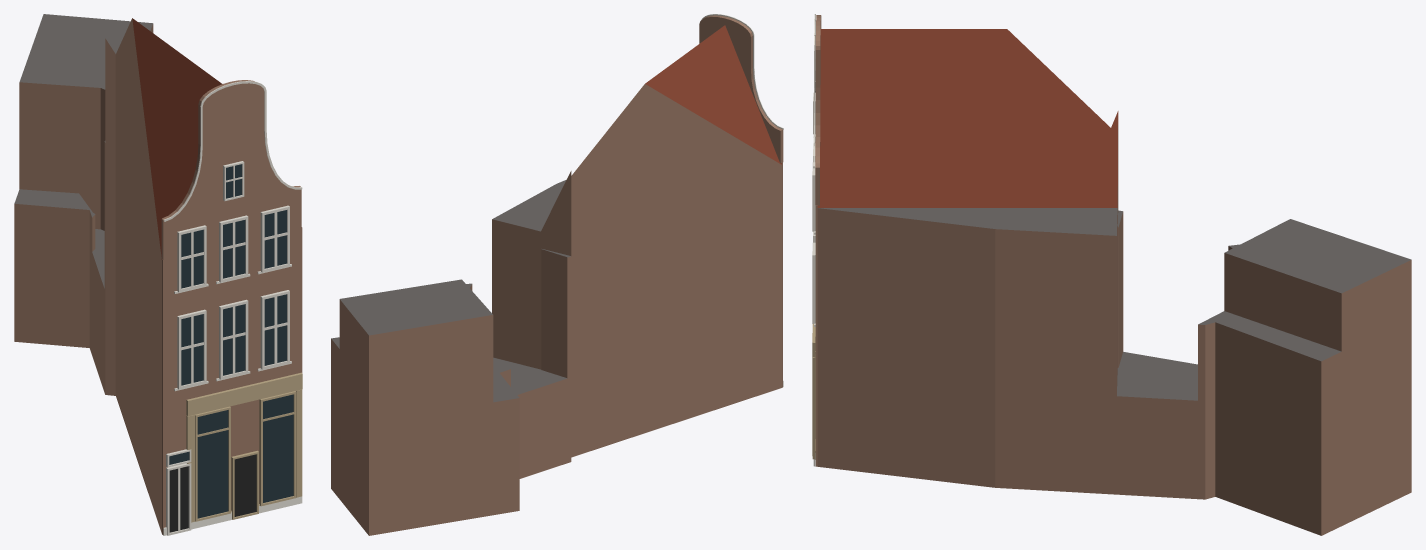
3 views of the same model, side by side, from view 1: azimuth 30°, elevation 25°; view 2: azimuth 150°, elevation 25°; view 3: azimuth 270°, elevation 25° (orthographic). The views are drawn at different scales.
Parts seen in each view (by area): view 1: spec-0363100012174415; view 2: spec-0363100012174415; view 3: spec-0363100012174415.
Part boxes in pixels (x1,y1,x2,y2): spec-0363100012174415: (14,14,302,535); spec-0363100012174415: (331,14,783,535); spec-0363100012174415: (812,14,1411,535).
Size of the model in its own units: 12.15 by 17.64 by 23.12.
